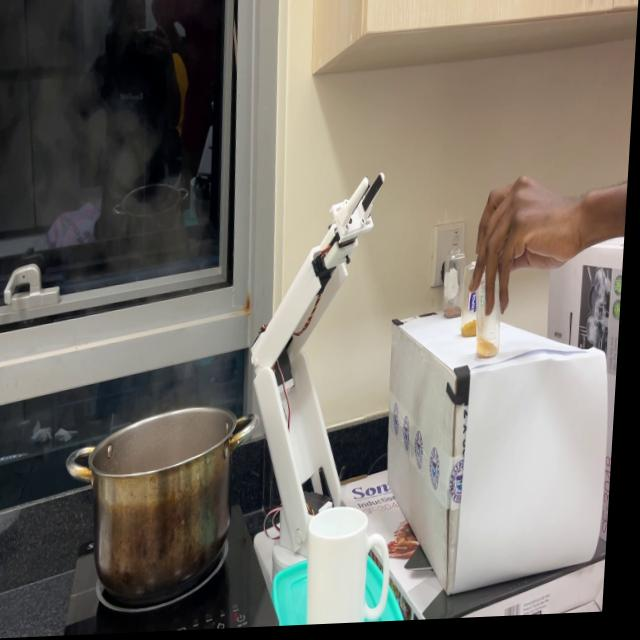cooking_pot: (69, 407, 270, 596)
curry_powder: (467, 323, 486, 345)
garlic_powder: (484, 334, 503, 368)
maggie_open: (447, 311, 466, 325)
